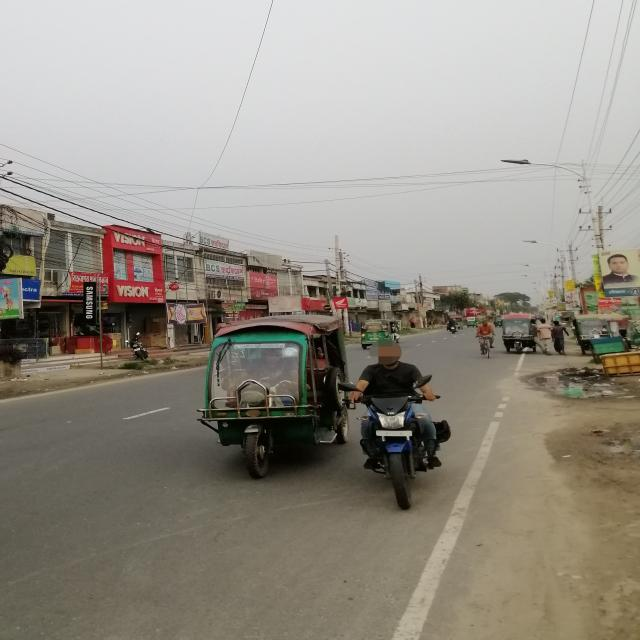Motorbike: (349, 391, 468, 519)
